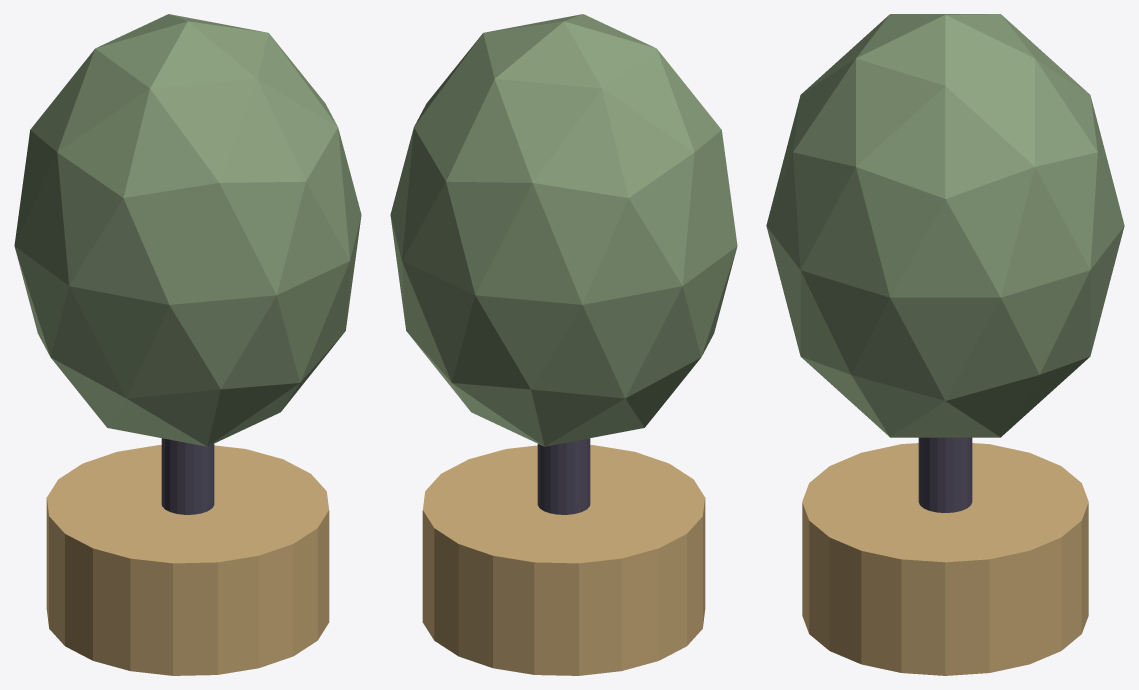
The picture shows the model from 3 angles, left to right: view 1: azimuth 30°, elevation 25°; view 2: azimuth 150°, elevation 25°; view 3: azimuth 270°, elevation 25°; orthographic projection.
Parts seen in each view (by area): view 1: RC-024 Potted topiary batched; view 2: RC-024 Potted topiary batched; view 3: RC-024 Potted topiary batched.
Part boxes in pixels (x1,y1,x2,y2): RC-024 Potted topiary batched: [14, 14, 361, 675]; RC-024 Potted topiary batched: [390, 14, 737, 675]; RC-024 Potted topiary batched: [766, 14, 1124, 675].
Size of the model in its own units: 1.9 by 3.7 by 2.
